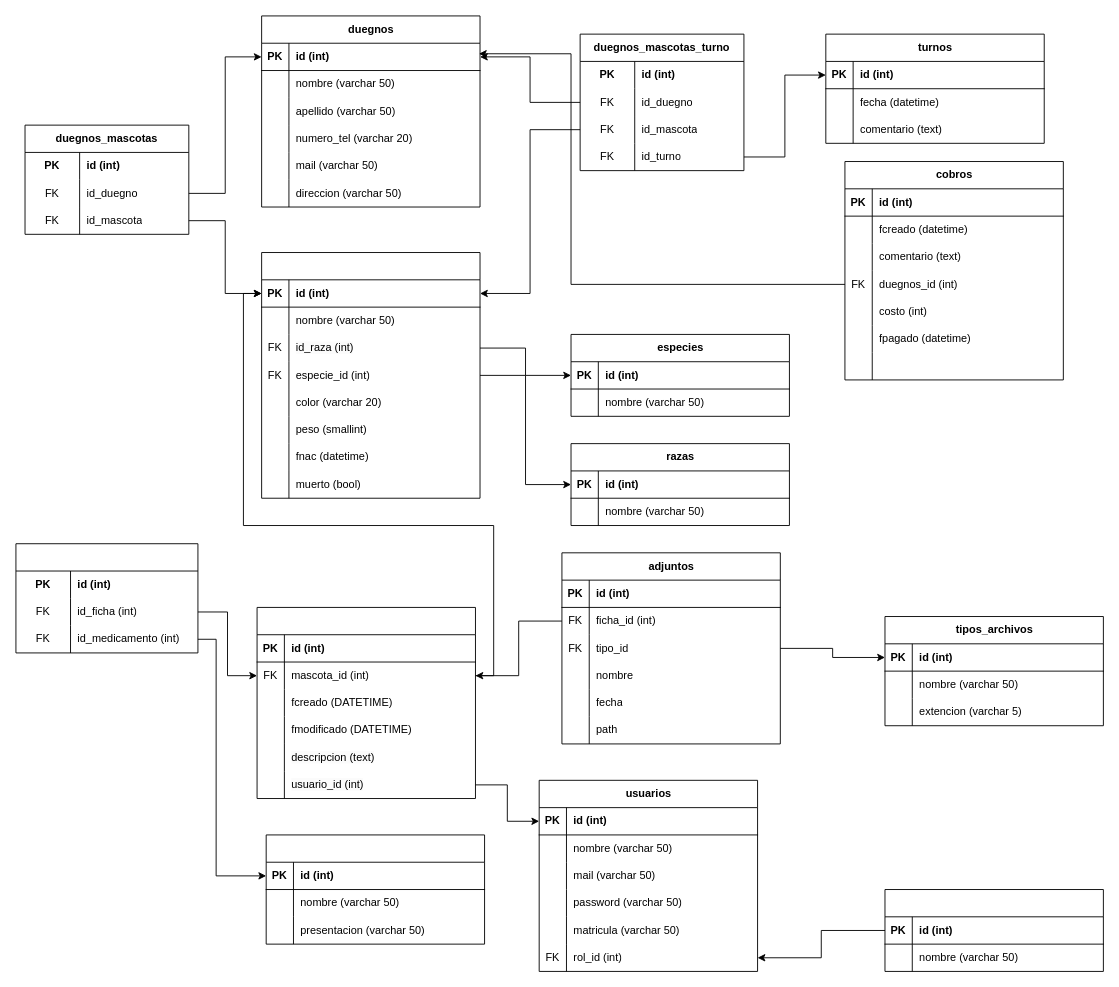
Image size: 1119x987. Some labels were removed from this diagram. The shapes that lost their labels are listed below. From the top down, each one's box as (x1, y1, x2, y2) in pixels, then its label:
(261, 252, 480, 498): mascotas
(15, 543, 198, 653): fichas_medicamentos
(256, 607, 475, 799): fichas
(265, 834, 485, 944): medicamentos
(884, 889, 1103, 971): roles
